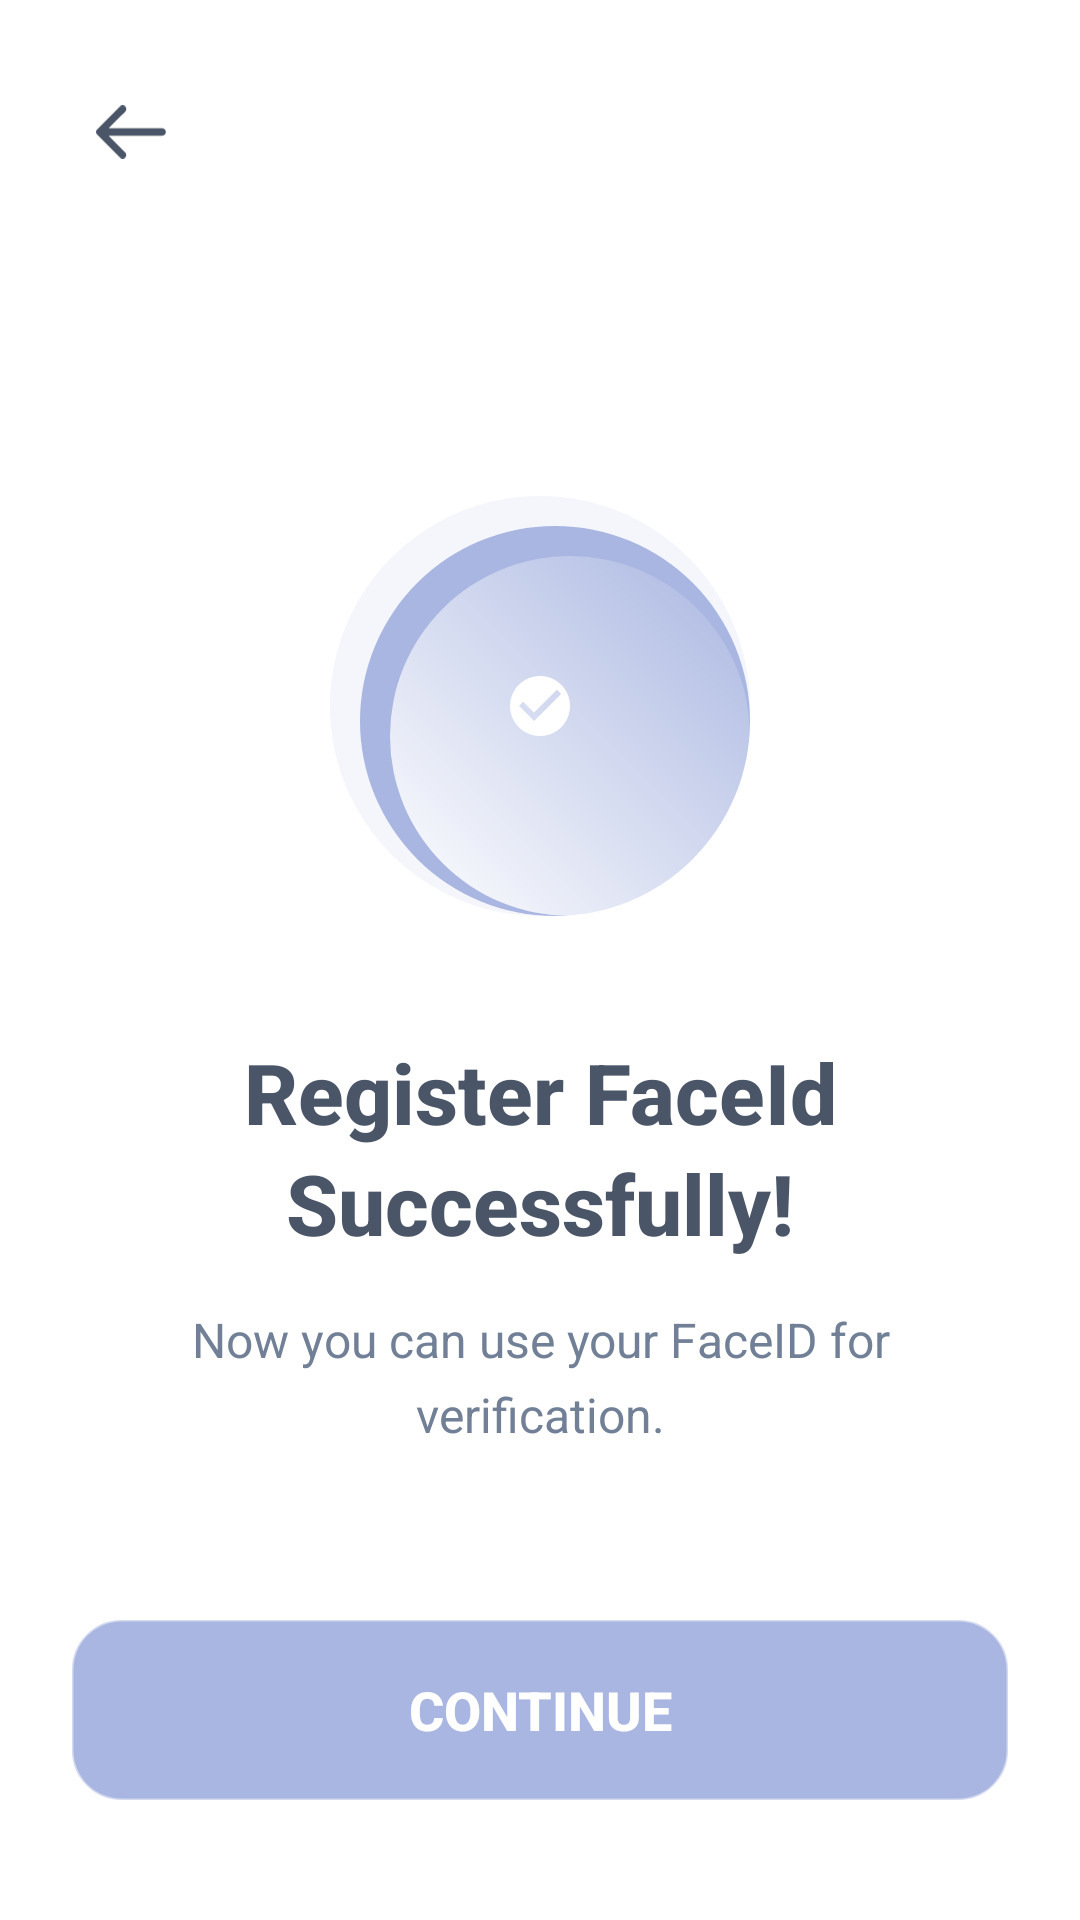

Icons on this 1080 × 1920 Android screen, each with the point to tap as [x,y]:
arrow back: [131,132]
